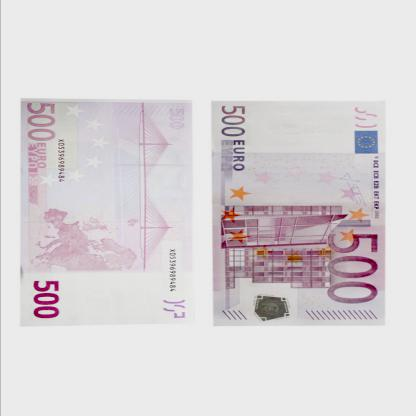euro_banknote: (186, 128, 414, 301)
